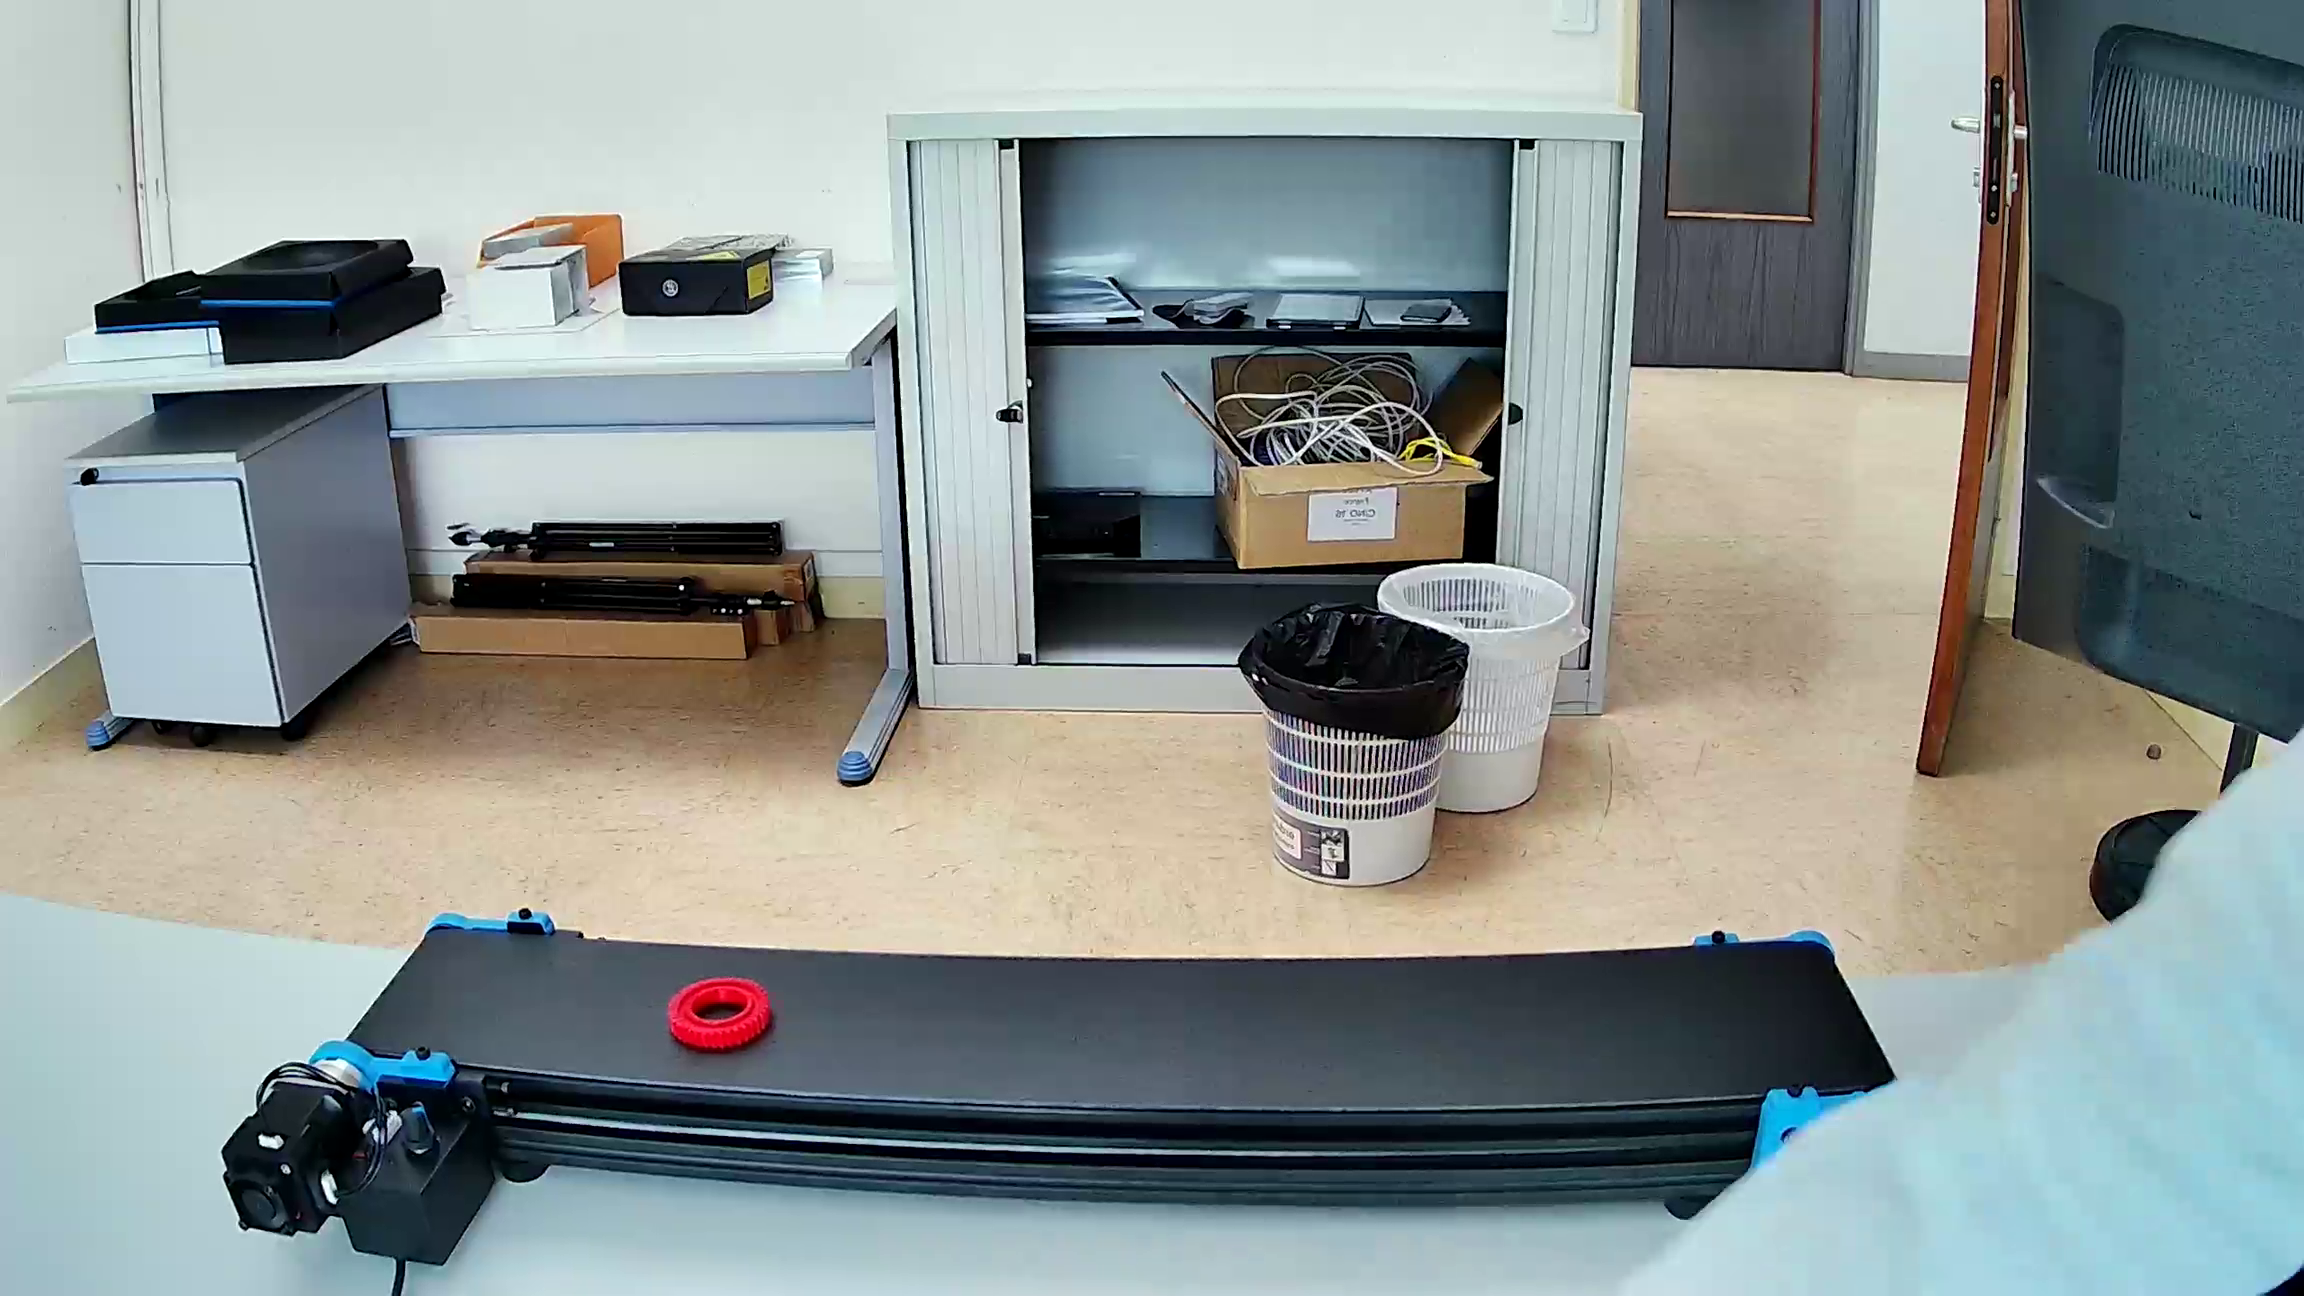not_good: (665, 981, 772, 1044)
